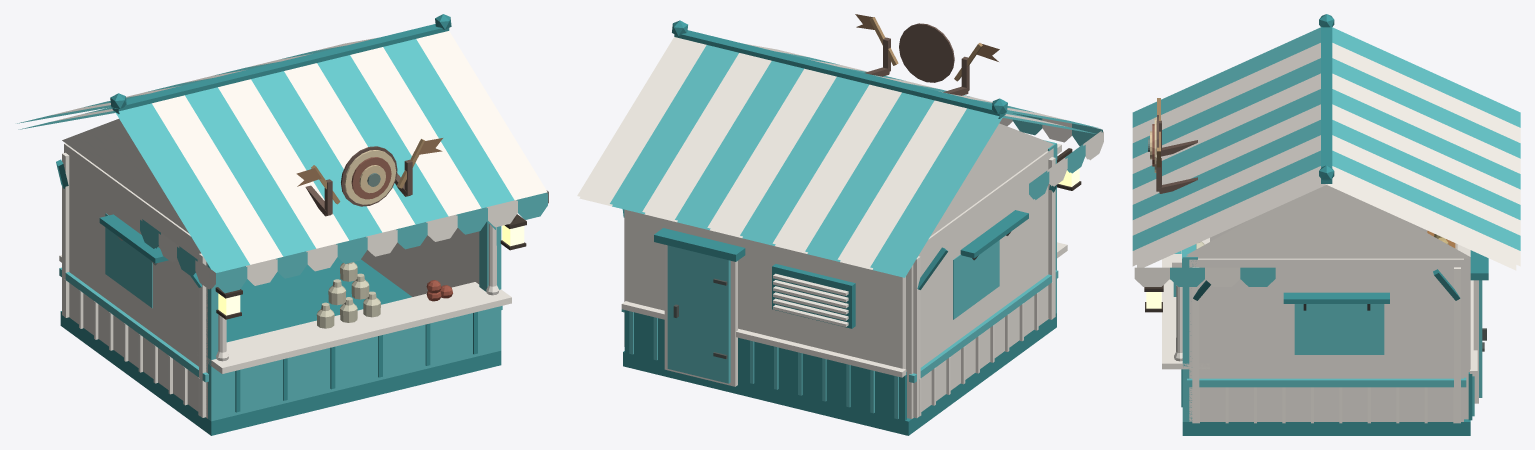
File: kiosk-games.glb
3 renders of one model, left to right at view 1: azimuth 30°, elevation 25°; view 2: azimuth 150°, elevation 25°; view 3: azimuth 270°, elevation 25°, orthographic. The views are drawn at different scales.
Visible parts, largest first — view 1: kiosk-games, Midway_counter_service_walls_and_joinery; view 2: kiosk-games, Midway_counter_service_walls_and_joinery; view 3: kiosk-games, Midway_counter_service_walls_and_joinery.
Boxes of the visible parts, <box> form: kiosk-games: <box>17,14,548,435</box>; Midway_counter_service_walls_and_joinery: <box>56,138,502,417</box>; kiosk-games: <box>577,20,1103,435</box>; Midway_counter_service_walls_and_joinery: <box>621,14,1061,420</box>; kiosk-games: <box>1132,14,1520,435</box>; Midway_counter_service_walls_and_joinery: <box>1148,98,1488,423</box>.
Size of the model in its own units: 5.85 by 4.81 by 6.08.
